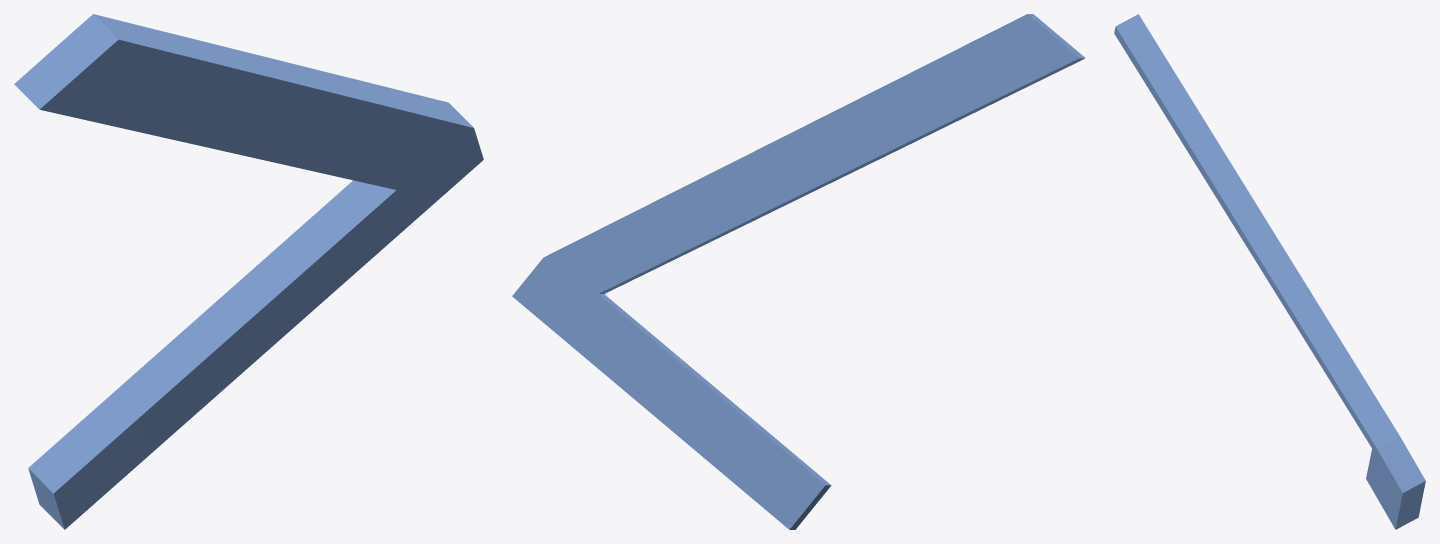
File: New_Number_7.gltf
3 renders of one model, left to right at view 1: azimuth 30°, elevation 25°; view 2: azimuth 150°, elevation 25°; view 3: azimuth 270°, elevation 25°, orthographic. The views are drawn at different scales.
Visible parts, largest first — view 1: Part 565; view 2: Part 565; view 3: Part 565.
Boxes of the visible parts, bbox=[...] form: Part 565: bbox=[14, 14, 483, 529]; Part 565: bbox=[512, 14, 1085, 529]; Part 565: bbox=[1114, 14, 1425, 529].
Size of the model in its own units: 0.00498 by 0.00495 by 0.00303.
